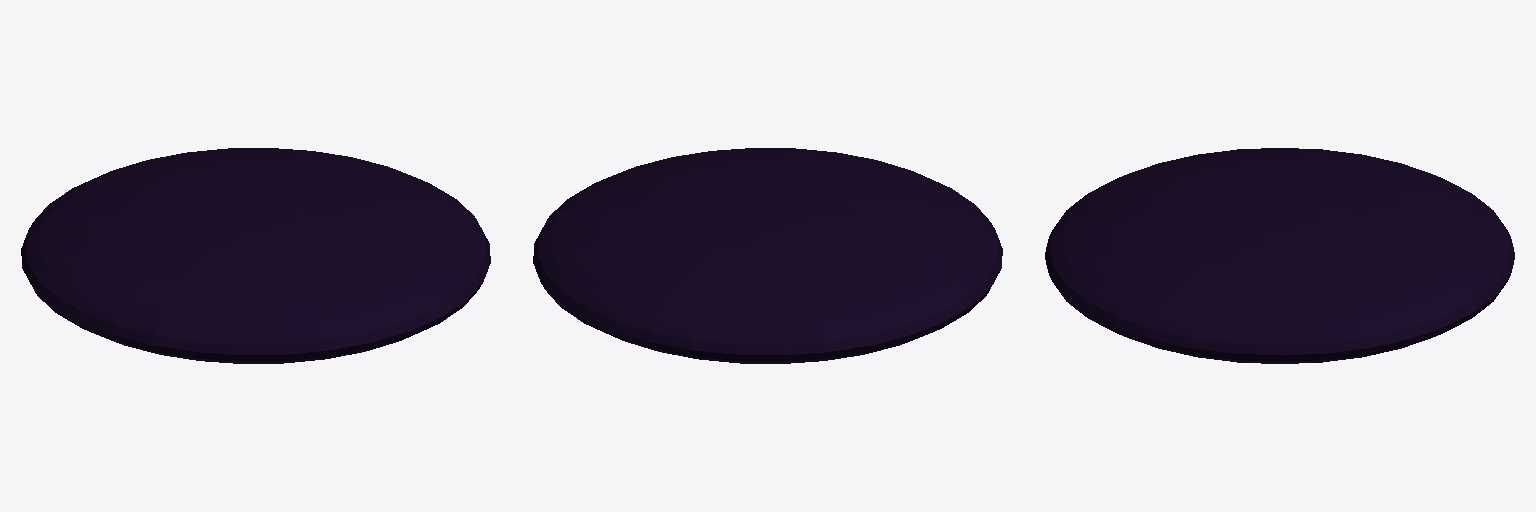
Rendered from Disc.obj.
3 views of the same model, side by side, from view 1: azimuth 30°, elevation 25°; view 2: azimuth 150°, elevation 25°; view 3: azimuth 270°, elevation 25° (orthographic).
Parts seen in each view (by area): view 1: Sphere; view 2: Sphere; view 3: Sphere.
Boxes of the visible parts, x1,y1,x2,y2 form: Sphere: [21, 148, 490, 363]; Sphere: [533, 148, 1002, 363]; Sphere: [1045, 148, 1514, 363].
Size of the model in its own units: 1 by 0.2 by 1.